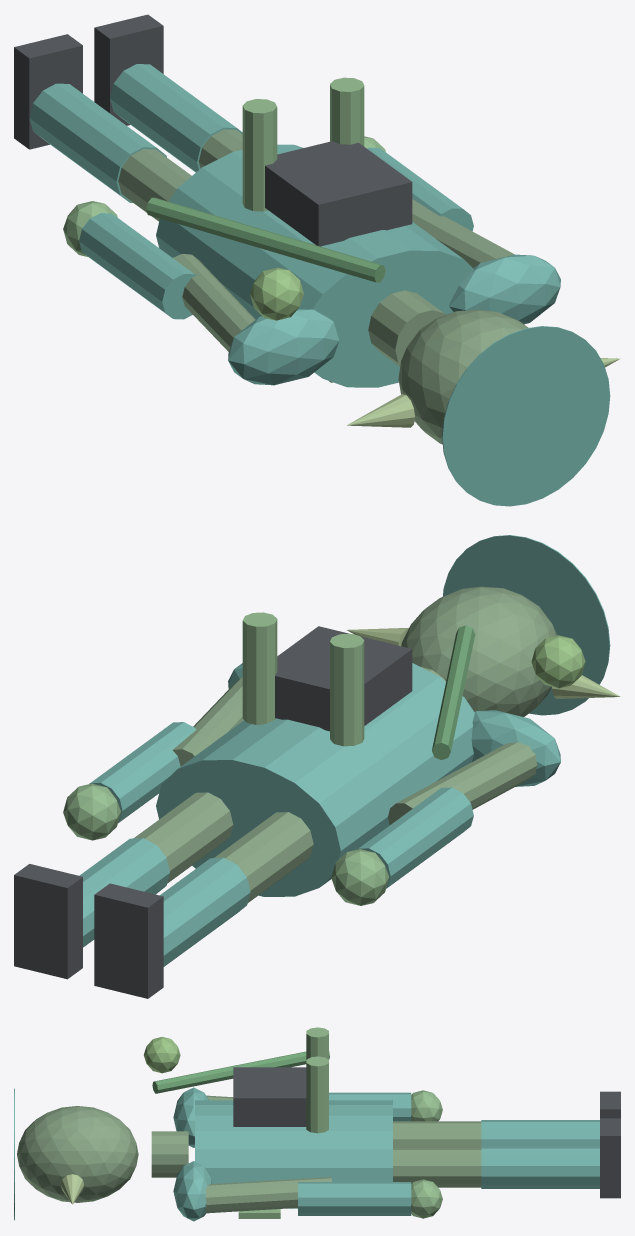
Rendered from SWN-034_tavi_arcvale.glb.
3 views of the same model, one above another, from view 1: azimuth 30°, elevation 25°; view 2: azimuth 150°, elevation 25°; view 3: azimuth 270°, elevation 25° (orthographic). The views are drawn at different scales.
Visible parts, largest first — view 1: rank_halo_ring, body_spine, back_thruster_pack, head, greave_-1, greave_1, shoulder_plate_-1, forearm_gauntlet_-1, shoulder_plate_1, vine_back_arc, boot_-1, boot_1 (+11 smaller); view 2: body_spine, head, rank_halo_ring, back_thruster_pack, boot_-1, boot_1, greave_-1, forearm_gauntlet_-1, thigh_1, thigh_-1, upper_arm_-1, forearm_gauntlet_1 (+11 smaller); view 3: body_spine, head, greave_1, back_thruster_pack, forearm_gauntlet_1, thigh_1, greave_-1, upper_arm_1, thigh_-1, vine_back_arc, aether_thruster_1, boot_1 (+11 smaller).
Boxes of the visible parts, <box> form: rank_halo_ring: <box>442,326,610,506</box>; body_spine: <box>156,144,474,387</box>; back_thruster_pack: <box>265,141,412,246</box>; head: <box>398,309,528,444</box>; greave_-1: <box>29,83,166,202</box>; greave_1: <box>110,64,242,172</box>; shoulder_plate_-1: <box>228,308,339,385</box>; forearm_gauntlet_-1: <box>79,213,195,319</box>; shoulder_plate_1: <box>449,254,560,324</box>; vine_back_arc: <box>146,197,385,282</box>; boot_-1: <box>14,34,82,149</box>; boot_1: <box>94,14,163,125</box>; body_spine: <box>156,663,474,896</box>; head: <box>401,586,556,716</box>; rank_halo_ring: <box>442,535,610,715</box>; back_thruster_pack: <box>275,626,412,731</box>; boot_-1: <box>94,883,163,998</box>; boot_1: <box>14,864,82,979</box>; greave_-1: <box>160,857,250,966</box>; forearm_gauntlet_-1: <box>357,787,473,888</box>; thigh_1: <box>134,792,233,883</box>; thigh_-1: <box>214,812,313,902</box>; upper_arm_-1: <box>388,742,537,825</box>; forearm_gauntlet_1: <box>89,722,196,823</box>; body_spine: <box>195,1100,392,1208</box>; head: <box>17,1106,138,1202</box>; greave_1: <box>481,1146,599,1188</box>; back_thruster_pack: <box>233,1067,306,1126</box>; forearm_gauntlet_1: <box>298,1182,411,1215</box>; thigh_1: <box>393,1148,481,1187</box>; greave_-1: <box>481,1120,599,1146</box>; upper_arm_1: <box>205,1177,332,1213</box>; thigh_-1: <box>393,1121,481,1147</box>; vine_back_arc: <box>152,1051,329,1093</box>; aether_thruster_1: <box>306,1056,328,1133</box>; boot_1: <box>600,1118,620,1198</box>.
Size of the model in its own units: 0.9932 by 0.7 by 2.3.
